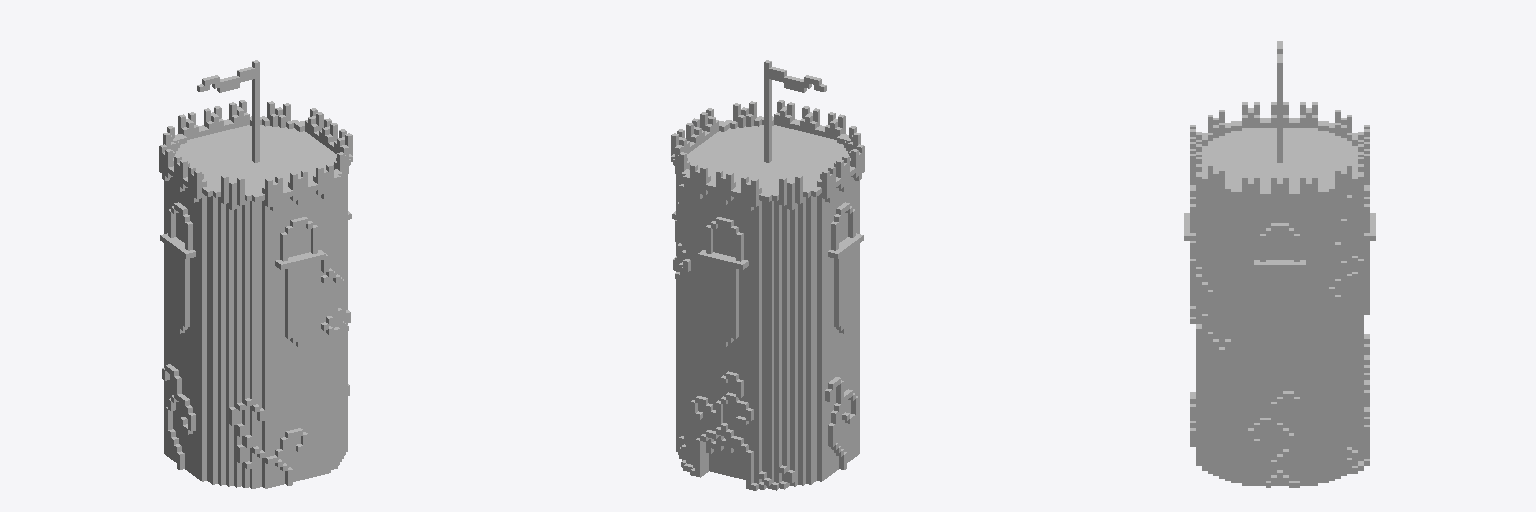
Rendered from castletower.obj.
The picture shows the model from 3 angles: view 1: azimuth 30°, elevation 25°; view 2: azimuth 150°, elevation 25°; view 3: azimuth 270°, elevation 25°; orthographic projection.
Visible parts, largest first — view 1: castletower; view 2: castletower; view 3: castletower.
Boxes of the visible parts, x1=… form: castletower: x1=159, y1=60, x2=352, y2=488; castletower: x1=671, y1=60, x2=864, y2=490; castletower: x1=1184, y1=41, x2=1375, y2=487.
Bounding box in the file's own units: 33 × 74 × 33.